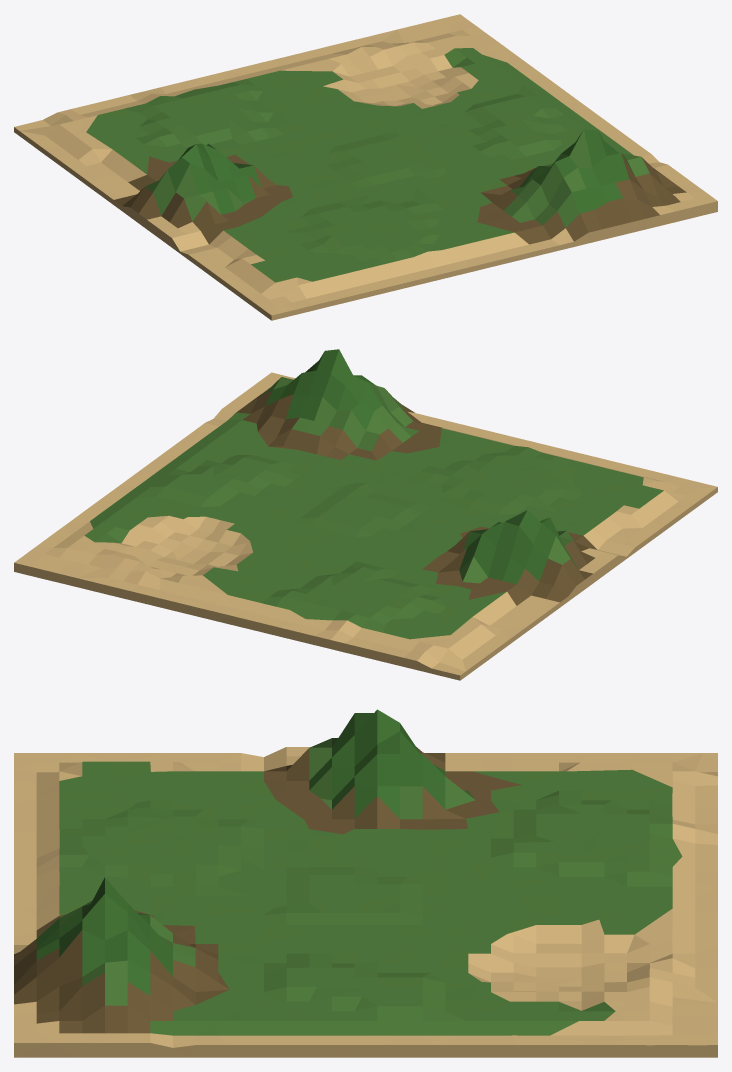
File: TerrainTest.fbx
3 views of the same model, one above another, from view 1: azimuth 30°, elevation 25°; view 2: azimuth 150°, elevation 25°; view 3: azimuth 270°, elevation 25° (orthographic). The views are drawn at different scales.
Visible parts, largest first — view 1: Plane; view 2: Plane; view 3: Plane.
Boxes of the visible parts, x1,y1,x2,y2 form: Plane: [14, 14, 717, 320]; Plane: [14, 349, 717, 680]; Plane: [14, 709, 717, 1057].
Bounding box in the file's own units: 20003 × 3554 × 20004.
